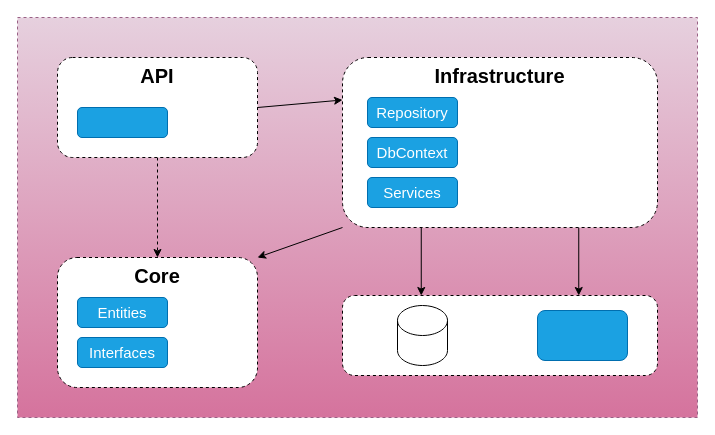
Some shapes in this 715 by 435 pixel diagram are drawn without their labels. Here are the shapes that lost their labels. From the top down, the centre of each, then its label:
pixel 122 122: Controllers
pixel 582 335: stripe
